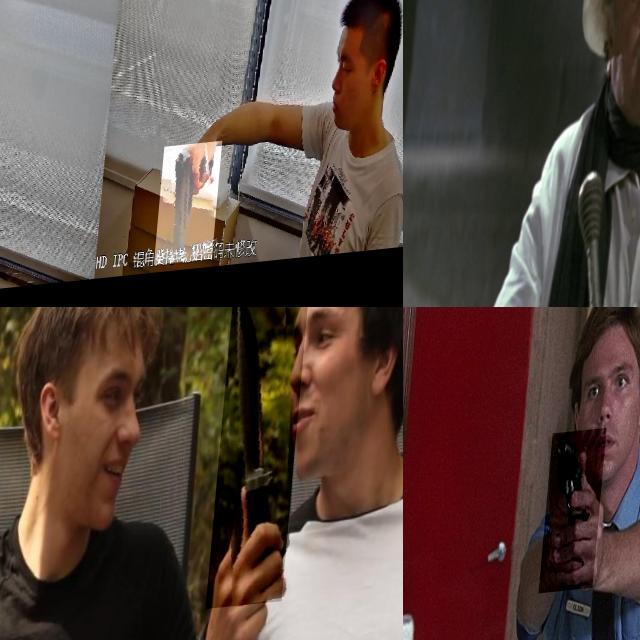-: (213, 307, 312, 615)
gun-knife-thesis - v11 Yolov5 augmented: (0, 0, 158, 138), (545, 436, 610, 600), (166, 150, 232, 272), (0, 117, 30, 251), (285, 0, 336, 63)
